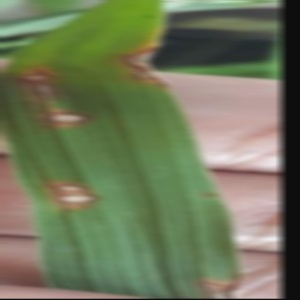Brown_Spot: (117, 33, 175, 94), (43, 97, 96, 140), (8, 60, 55, 87), (19, 81, 61, 111), (50, 190, 95, 212), (46, 172, 88, 194)
